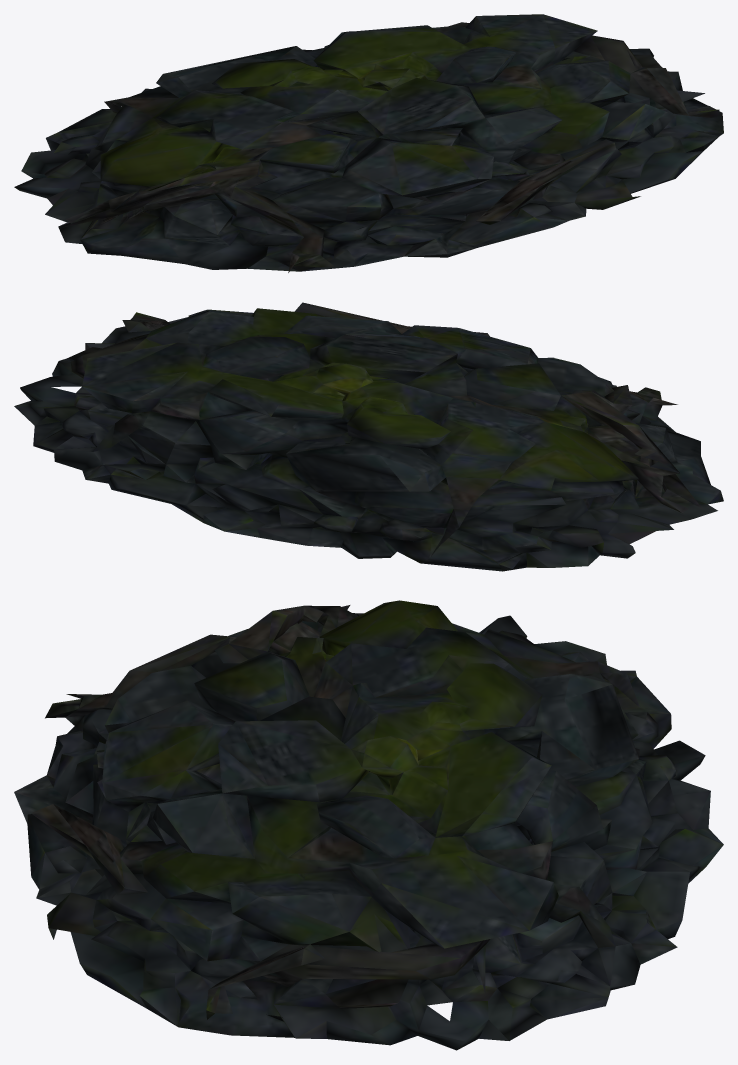
Rendered from briarhold-battlefield-verge-512.glb.
3 views of the same model, one above another, from view 1: azimuth 30°, elevation 25°; view 2: azimuth 150°, elevation 25°; view 3: azimuth 270°, elevation 25° (orthographic). The views are drawn at different scales.
Visible parts, largest first — view 1: briarhold-battlefield-verge; view 2: briarhold-battlefield-verge; view 3: briarhold-battlefield-verge.
Boxes of the visible parts, left/top/right/bottom form: briarhold-battlefield-verge: left=14, top=14, right=723, bottom=272; briarhold-battlefield-verge: left=14, top=302, right=723, bottom=571; briarhold-battlefield-verge: left=14, top=600, right=723, bottom=1050.
Size of the model in its own units: 3.2 by 0.35 by 2.2.
Materials: 1 (1 with a texture image).
